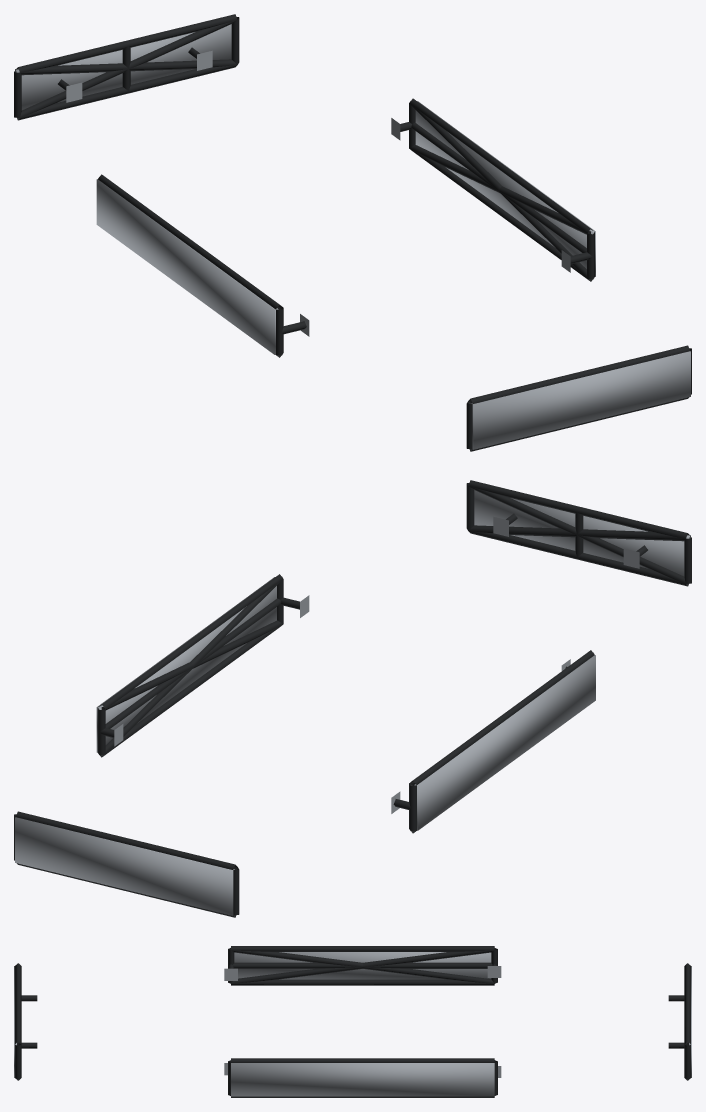
File: whitlock_horizonte_protecao.glb
3 renders of one model, top to bottom at view 1: azimuth 30°, elevation 25°; view 2: azimuth 150°, elevation 25°; view 3: azimuth 270°, elevation 25°, orthographic. The views are drawn at different scales.
Parts seen in each view (by area): view 1: Protection_front_Level3_Details, Protection_left_Level3_Details, Protection_rear_Level1_Details, Protection_rear_Level3_Details, Protection_right_Level1_Details, Protection_right_Level2_Details, Protection_right_Level3_Details, Protection_rear_Level2_Details, Protection_front_Level1_Details, Protection_left_Level1_Details; view 2: Protection_rear_Level3_Details, Protection_left_Level3_Details, Protection_front_Level1_Details, Protection_front_Level3_Details, Protection_right_Level1_Details, Protection_right_Level2_Details, Protection_right_Level3_Details, Protection_front_Level2_Details, Protection_rear_Level1_Details, Protection_left_Level1_Details; view 3: Protection_right_Level3_Details, Protection_left_Level2_Details, Protection_left_Level1_Details, Protection_left_Level3_Details, Protection_right_Level1_Details, Protection_rear_Level1_Details, Protection_front_Level1_Details.
Part boxes in pixels (x1,y1,x2,y2): Protection_front_Level3_Details: (471,351,690,449); Protection_left_Level3_Details: (96,179,278,354); Protection_rear_Level1_Details: (14,14,239,120); Protection_rear_Level3_Details: (15,24,231,110); Protection_right_Level1_Details: (391,98,594,281); Protection_right_Level2_Details: (409,104,594,281); Protection_right_Level3_Details: (415,101,595,276); Protection_rear_Level2_Details: (16,20,236,119); Protection_front_Level1_Details: (466,345,691,451); Protection_left_Level1_Details: (98,174,309,357); Protection_rear_Level3_Details: (15,817,234,915); Protection_left_Level3_Details: (414,655,595,830); Protection_front_Level1_Details: (466,480,691,586); Protection_front_Level3_Details: (474,490,690,576); Protection_right_Level1_Details: (97,574,309,757); Protection_right_Level2_Details: (99,580,283,756); Protection_right_Level3_Details: (96,577,276,752); Protection_front_Level2_Details: (469,486,689,585); Protection_rear_Level1_Details: (14,811,239,917); Protection_left_Level1_Details: (391,650,594,833); Protection_right_Level3_Details: (231,1063,494,1096); Protection_left_Level2_Details: (231,950,494,983); Protection_left_Level1_Details: (224,946,501,985); Protection_left_Level3_Details: (234,952,491,979); Protection_right_Level1_Details: (224,1058,501,1097); Protection_rear_Level1_Details: (668,963,690,1080); Protection_front_Level1_Details: (15,963,37,1080).
Size of the model in its own units: 2.23 by 0.354 by 5.51.
Materials: 1 (1 with a texture image).
